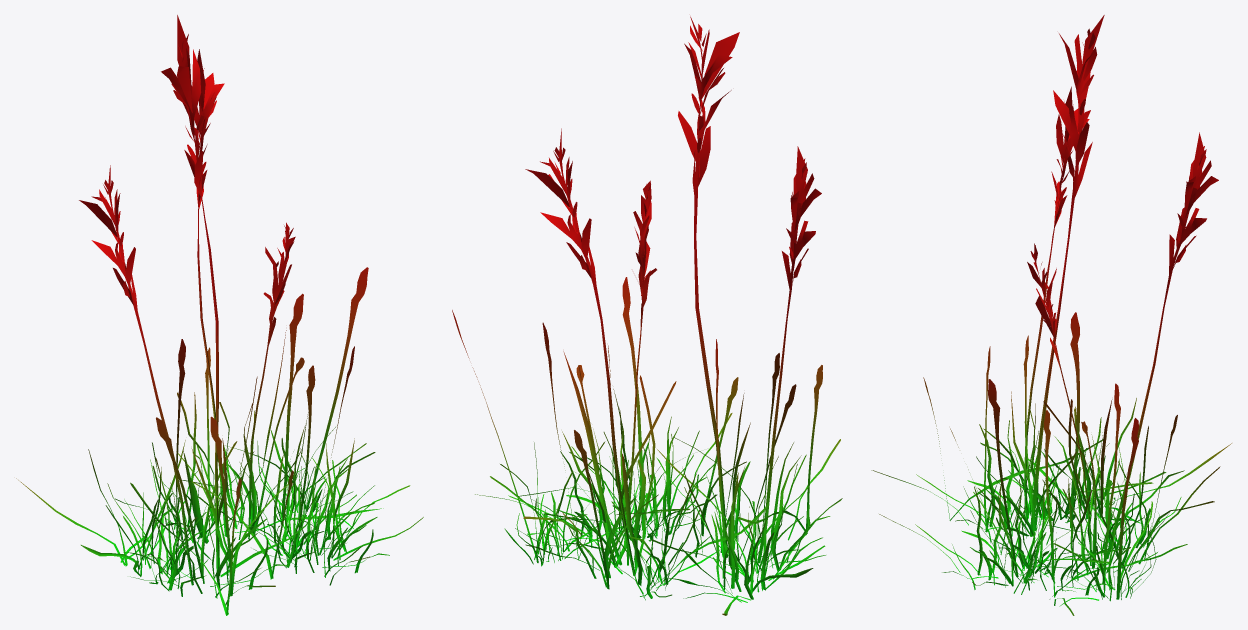
File: Tundra Grass_LOD0_Var17_wk2oaeyqx.fbx
3 views of the same model, side by side, from view 1: azimuth 30°, elevation 25°; view 2: azimuth 150°, elevation 25°; view 3: azimuth 270°, elevation 25° (orthographic). The views are drawn at different scales.
Parts seen in each view (by area): view 1: _ngiu_Var17_LOD0; view 2: _ngiu_Var17_LOD0; view 3: _ngiu_Var17_LOD0.
Part boxes in pixels (x1,y1,x2,y2): _ngiu_Var17_LOD0: [16, 15, 423, 615]; _ngiu_Var17_LOD0: [452, 16, 842, 615]; _ngiu_Var17_LOD0: [871, 15, 1231, 615].
Bounding box in the file's own units: 40.2 × 62.91 × 39.48.
